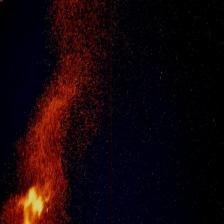fire: (0, 0, 111, 224)
